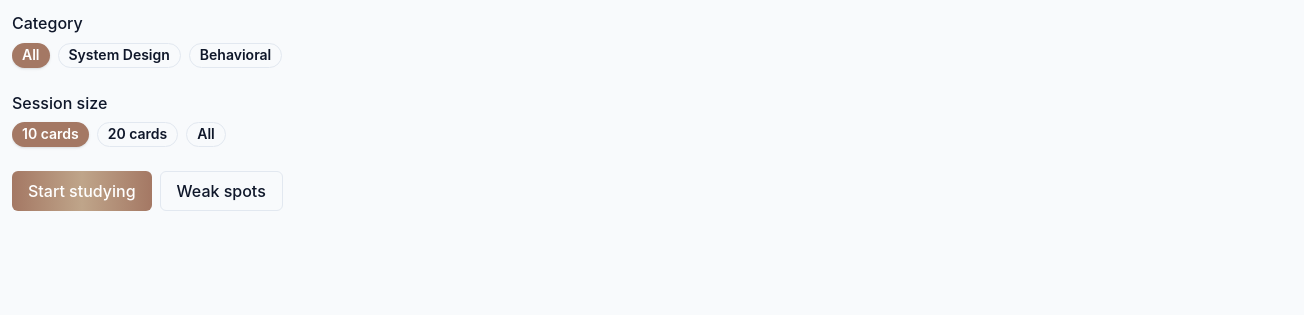
Scenario: StudyDeck flow › builds a weak-only deck from the Weak spots preset
Click the button "Weak spots".
click(221, 191)  # box [160,171,283,211]
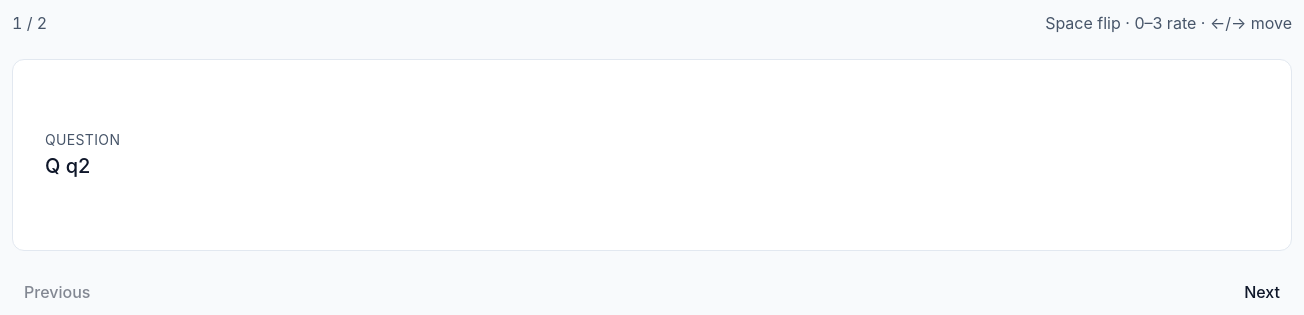
Expected: the text "Q q2" is shown, [45,154,90,178]
